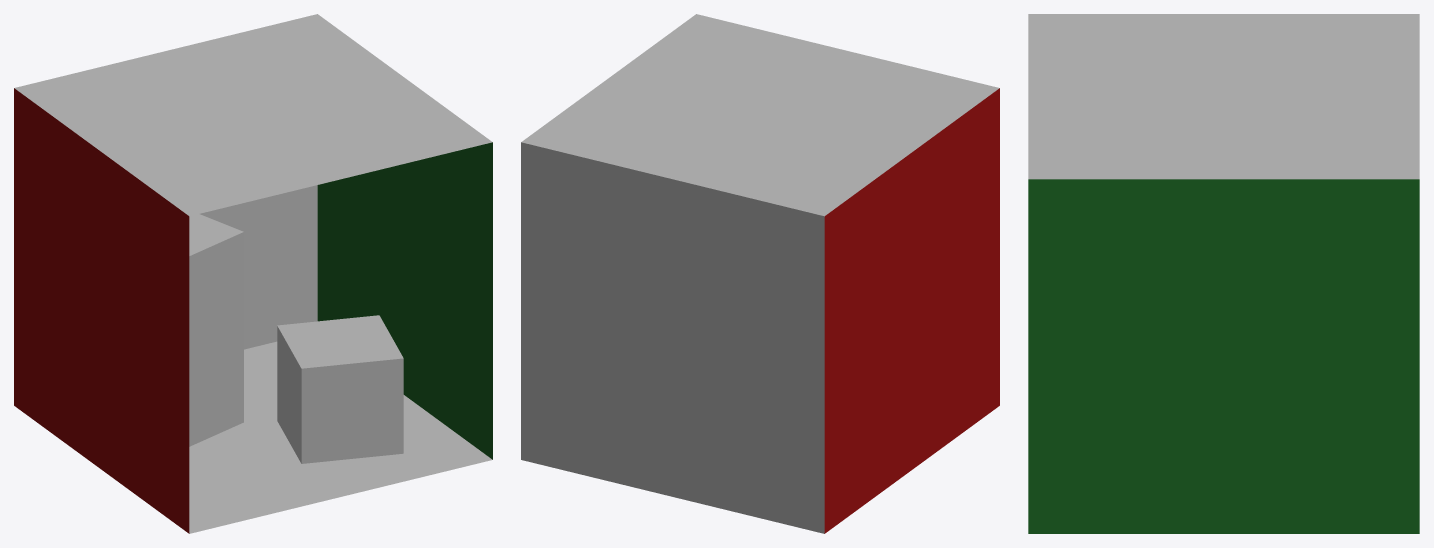
File: cornell_box.obj
3 views of the same model, side by side, from view 1: azimuth 30°, elevation 25°; view 2: azimuth 150°, elevation 25°; view 3: azimuth 270°, elevation 25° (orthographic). The views are drawn at different scales.
Size of the model in its own units: 2 by 2 by 2.
